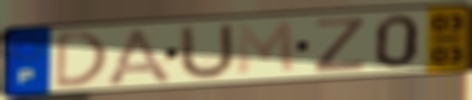0: (371, 13, 423, 70)
A: (101, 25, 177, 85)
D: (52, 29, 110, 91)
M: (234, 19, 299, 78)
U: (176, 21, 237, 83)
Z: (311, 16, 368, 74)
